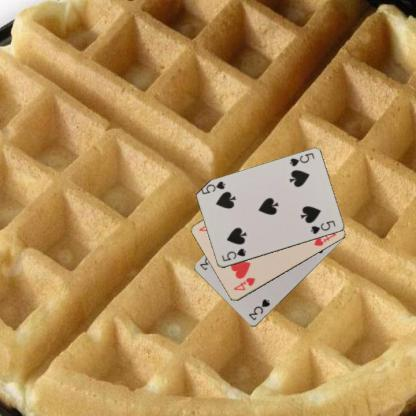3s: (246, 296, 271, 322)
4h: (231, 275, 257, 292)
5s: (286, 150, 316, 168), (219, 246, 247, 263)
